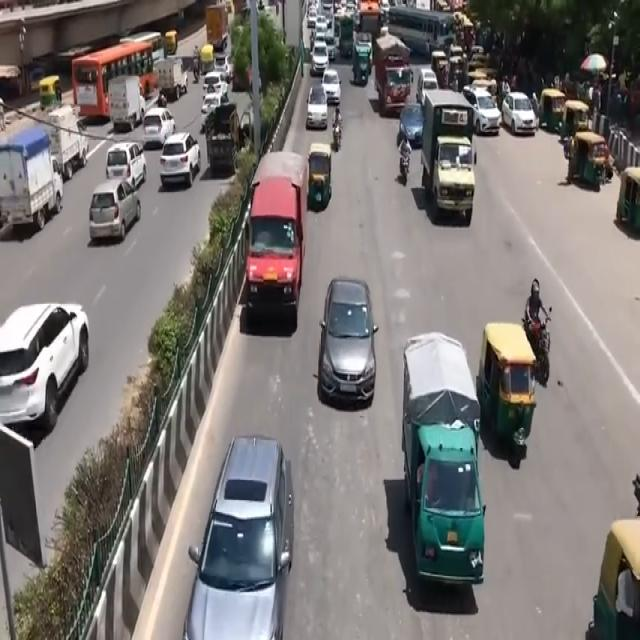BUS: (73, 37, 161, 131), (388, 4, 455, 57), (369, 38, 411, 114)
MOTORCYCLE: (534, 316, 554, 386), (398, 147, 409, 183)
TRUCK: (248, 152, 308, 338), (0, 118, 61, 240), (420, 89, 474, 224)
